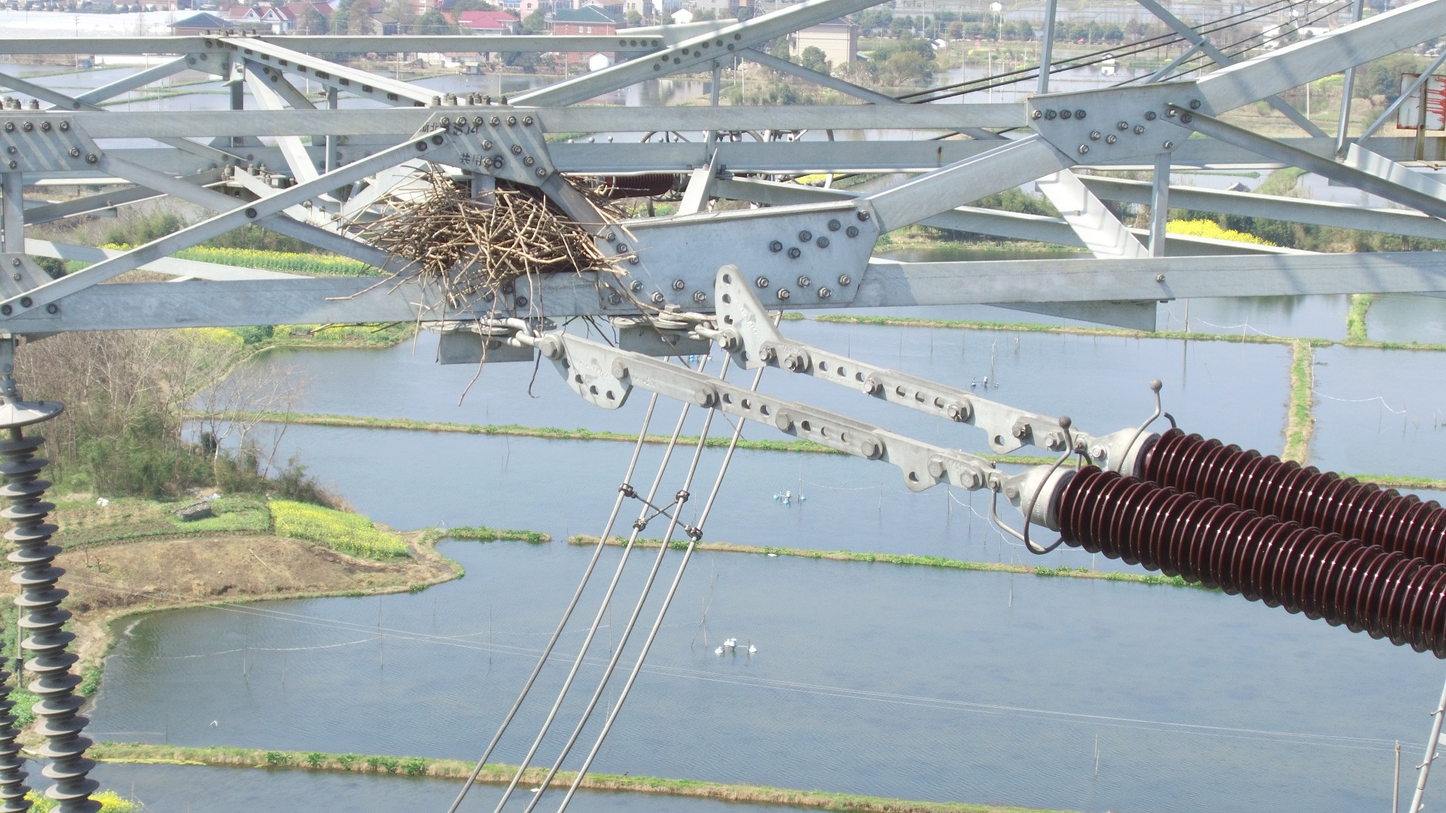insulator: (1054, 424, 1446, 669), (1, 432, 112, 813)
